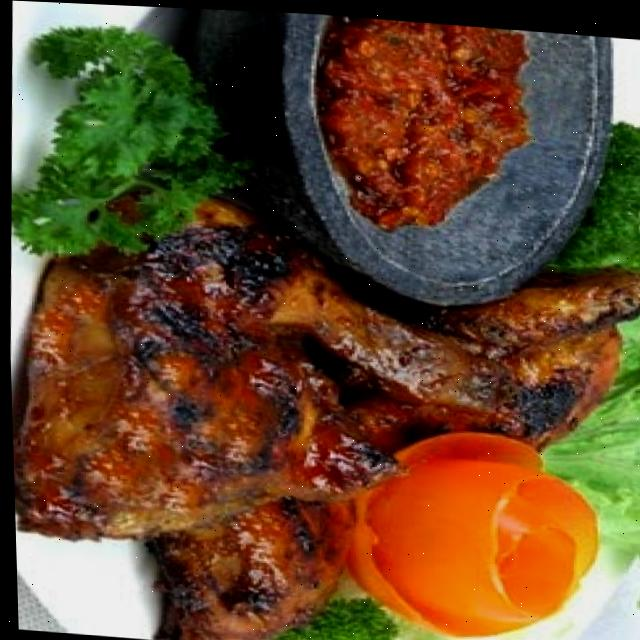鸡肉料理 含炸鸡: (21, 1, 640, 640)
